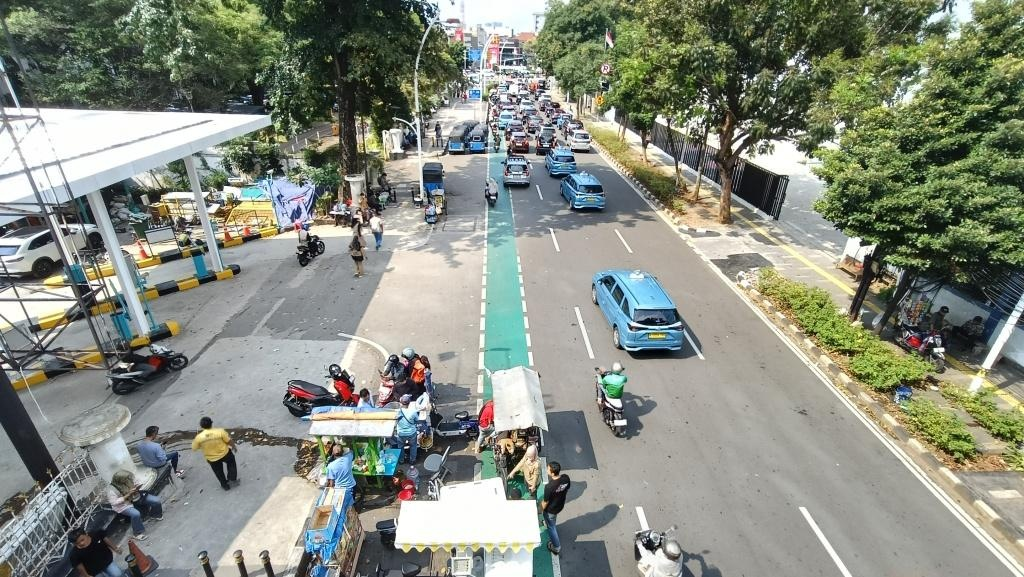Gerobak: (394, 476, 548, 574), (302, 404, 425, 511), (476, 364, 553, 488), (297, 488, 369, 574)
Terpal: (261, 176, 317, 231)
